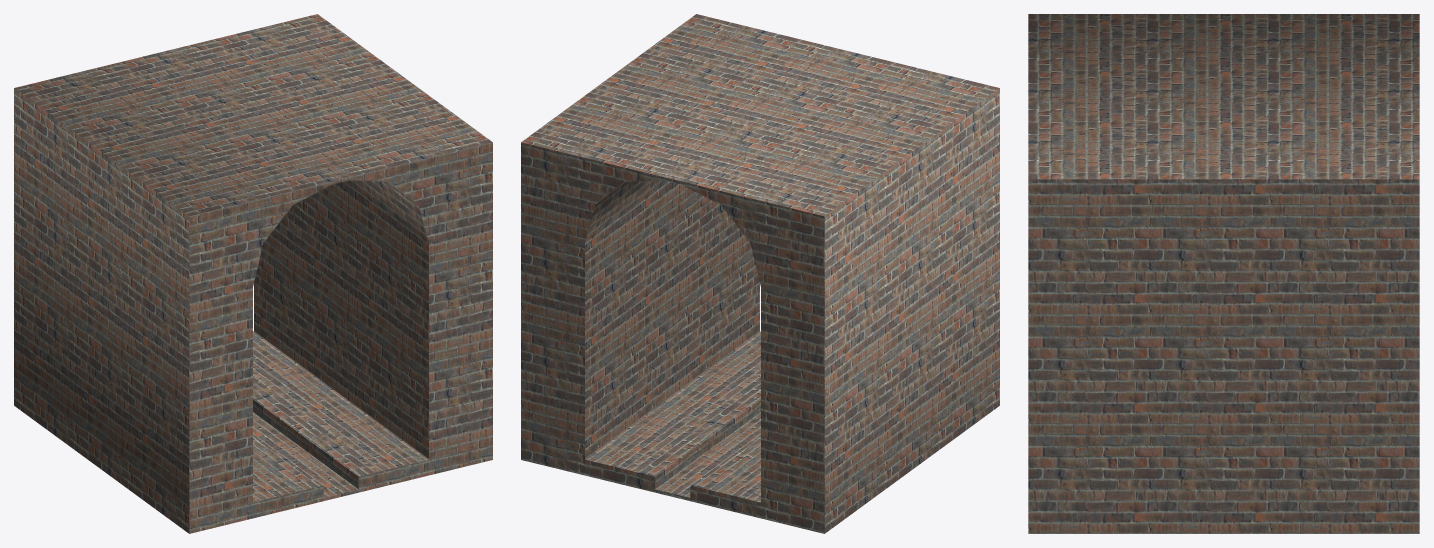
File: Tunnel_Straight.fbx
3 renders of one model, left to right at view 1: azimuth 30°, elevation 25°; view 2: azimuth 150°, elevation 25°; view 3: azimuth 270°, elevation 25°, orthographic. The views are drawn at different scales.
Visible parts, largest first — view 1: Tunnel_Cross; view 2: Tunnel_Cross; view 3: Tunnel_Cross.
Part boxes in pixels (box(x1,y1,x2,y2)): Tunnel_Cross: box(14, 14, 492, 533); Tunnel_Cross: box(521, 14, 999, 533); Tunnel_Cross: box(1028, 14, 1419, 533).
Size of the model in its own units: 5 by 5 by 5.
